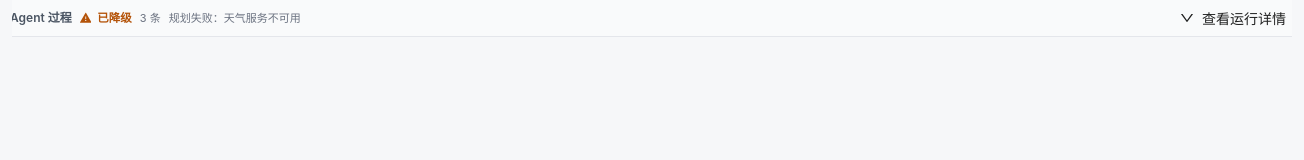
Test: AgentActivityPanel › tool_result 按成功/失败渲染不同文案，error 事件渲染错误信息
Click the button "查看运行详情": (1232, 18) [1172,6,1292,30]
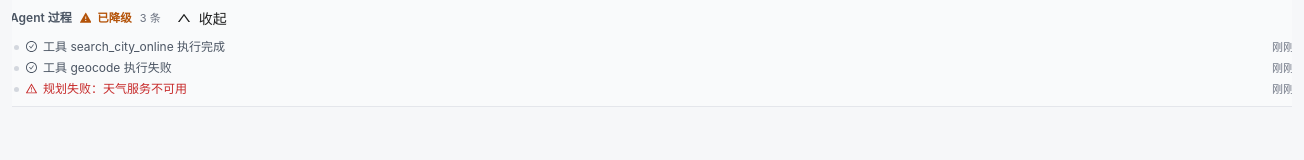
expect the text "规划失败：天气服务不可用" is shown: met, box [43,81,187,96]
expect the text "工具 search_city_online 执行完成" is shown: met, box [43,39,225,54]
expect the text "工具 geocode 执行失败" is shown: met, box [43,60,172,75]
